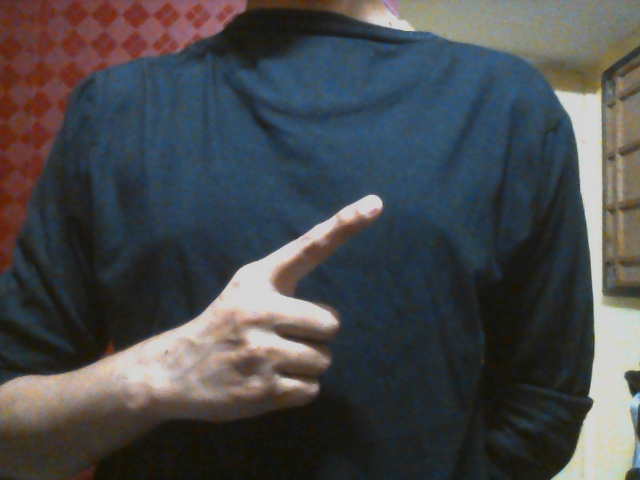I: (171, 192, 387, 423)
